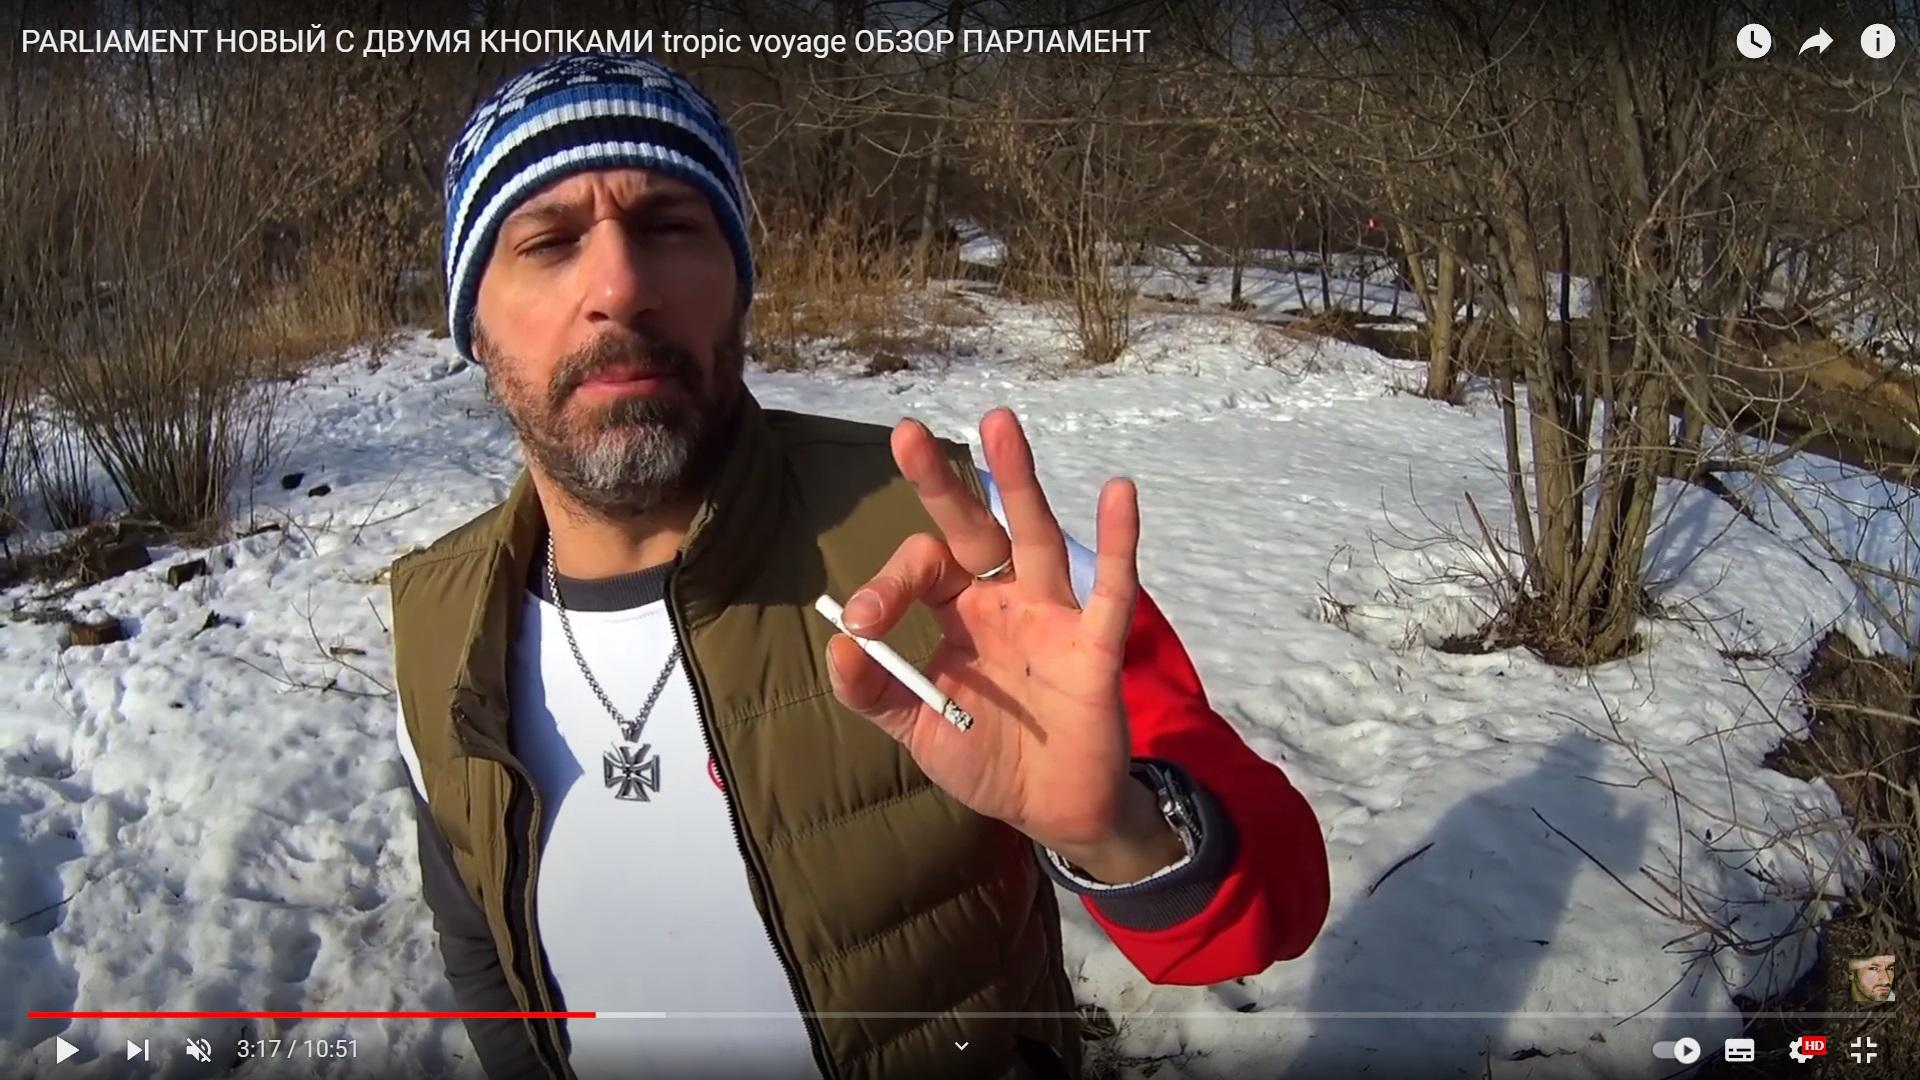cigarette: (814, 593, 975, 732)
